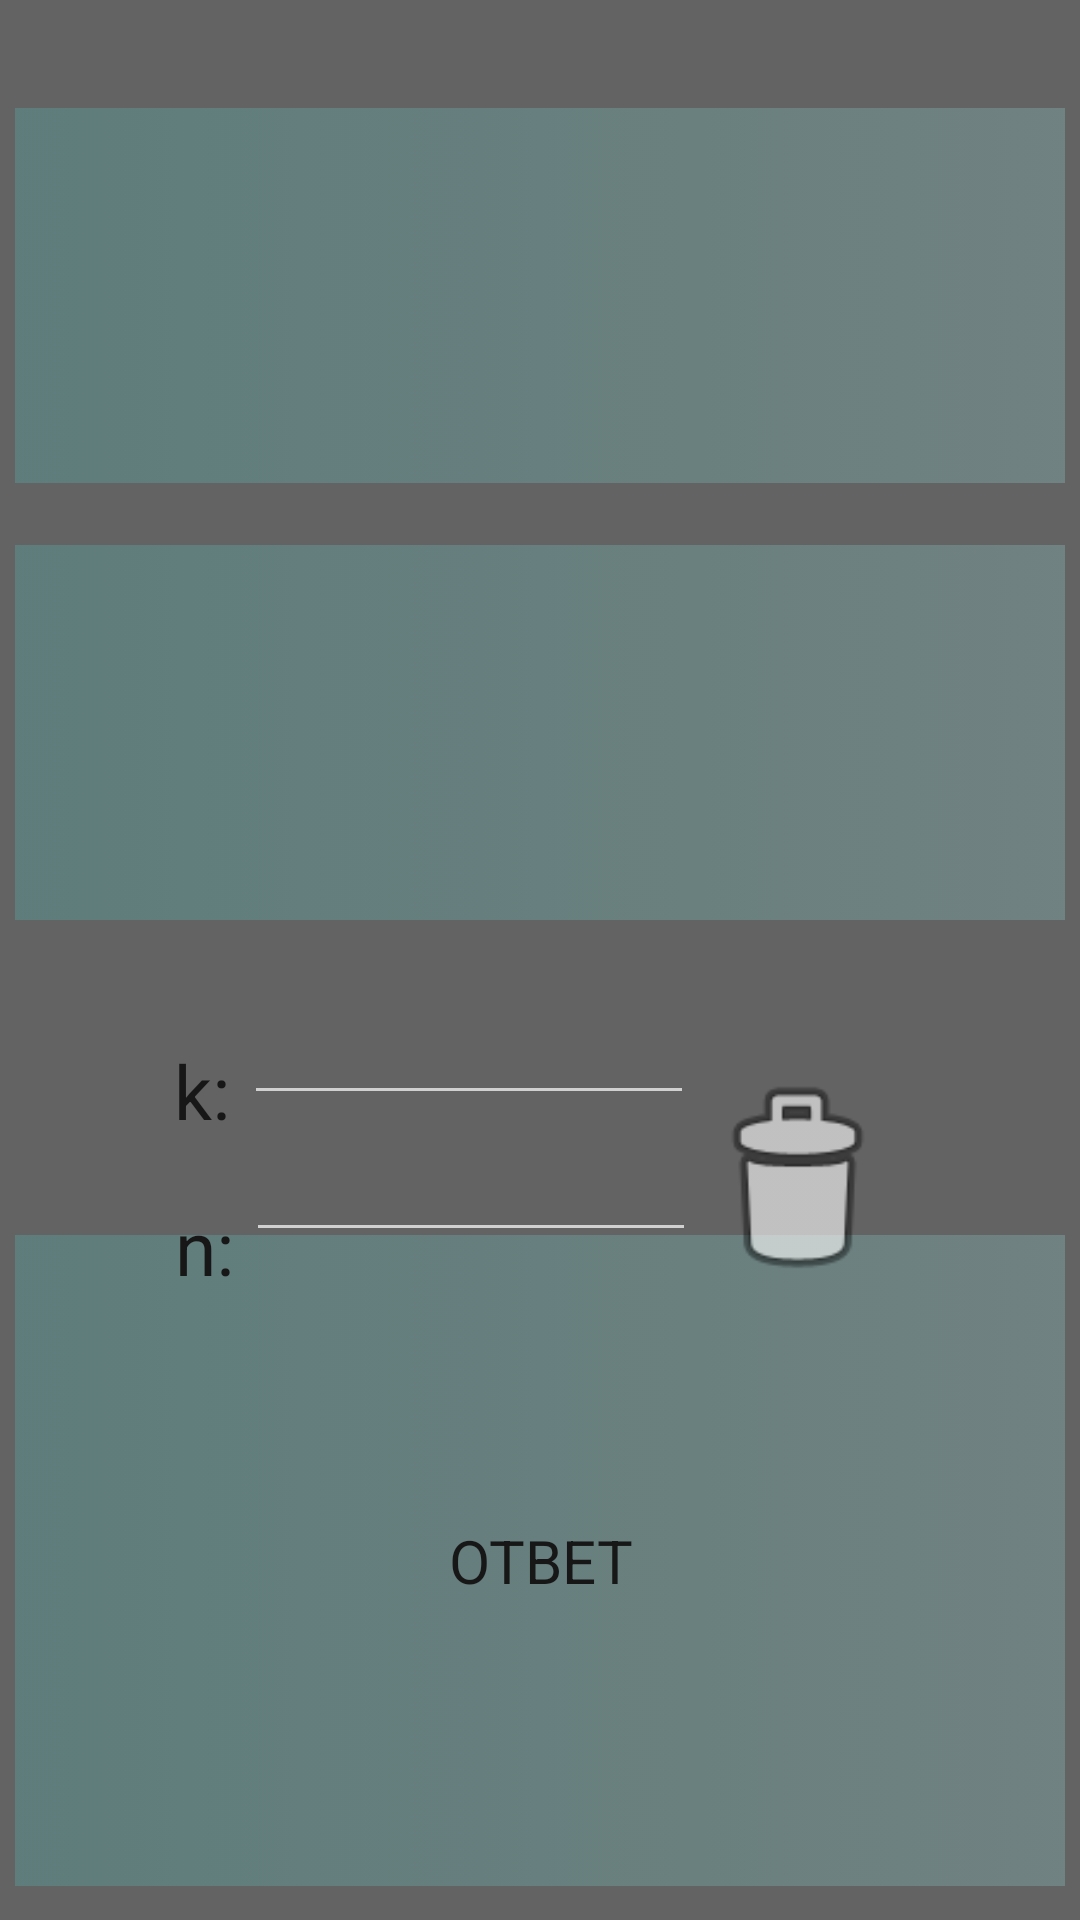

Point at icon controls on the screen. Image size 1080×1920, points as (x=x, y=y).
delete: (x=798, y=1177)
